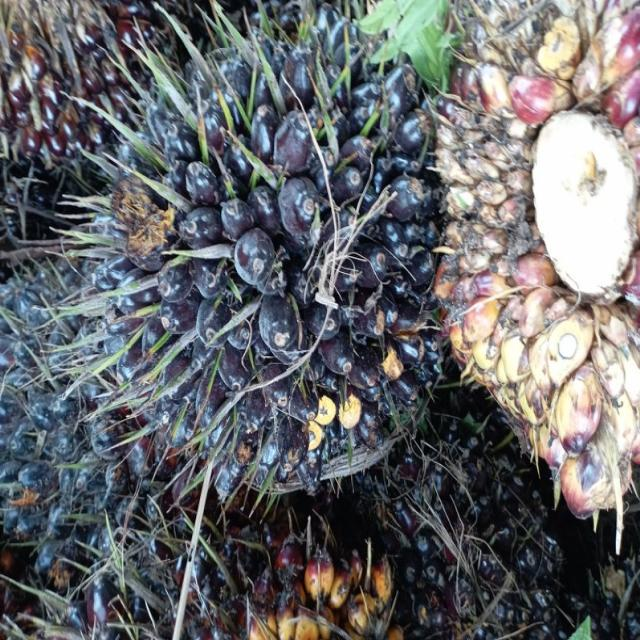fraksi 00: (78, 24, 472, 487), (0, 250, 159, 543)
